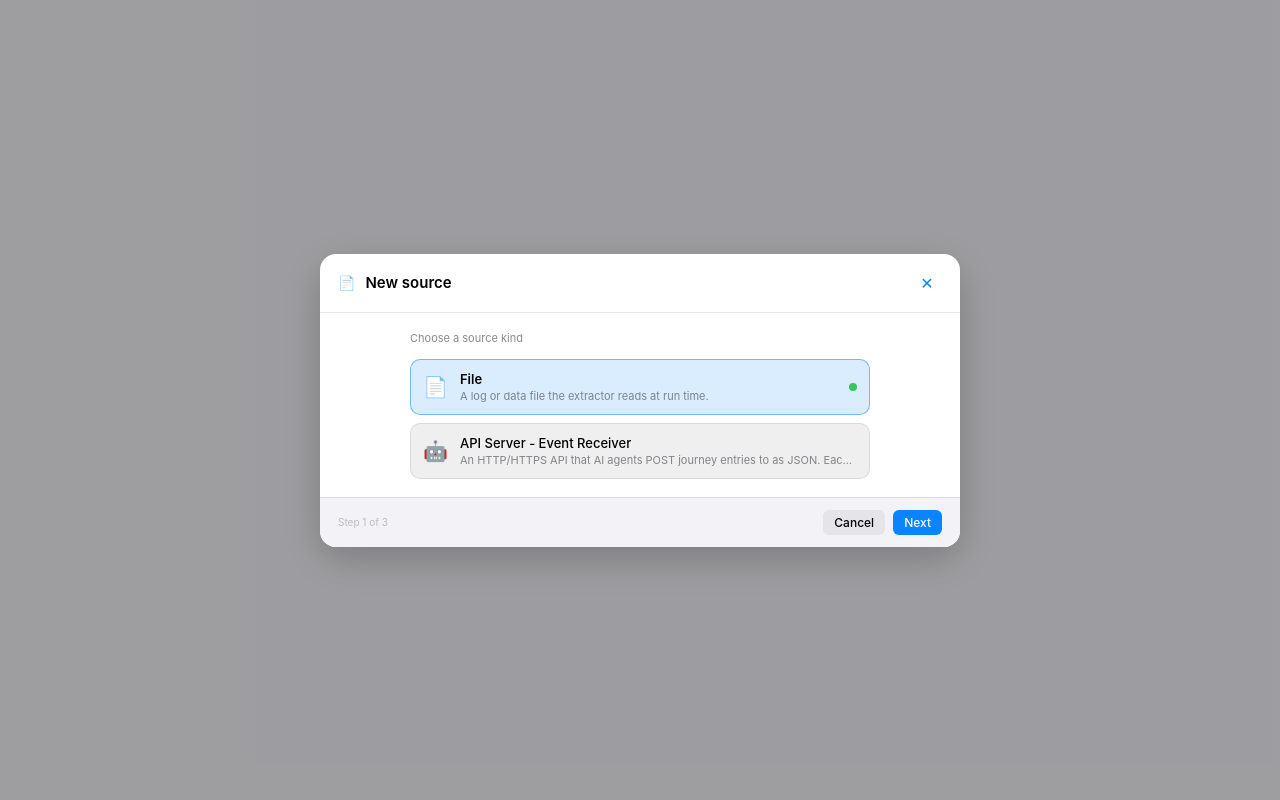
Scenario: SourceWizard › creates a sink and shows its one-time token
The width and height of the screenshot is (1280, 800).
Click the text "API Server - Event Receiver" at coordinates (546, 442), box [460,434,631,450]
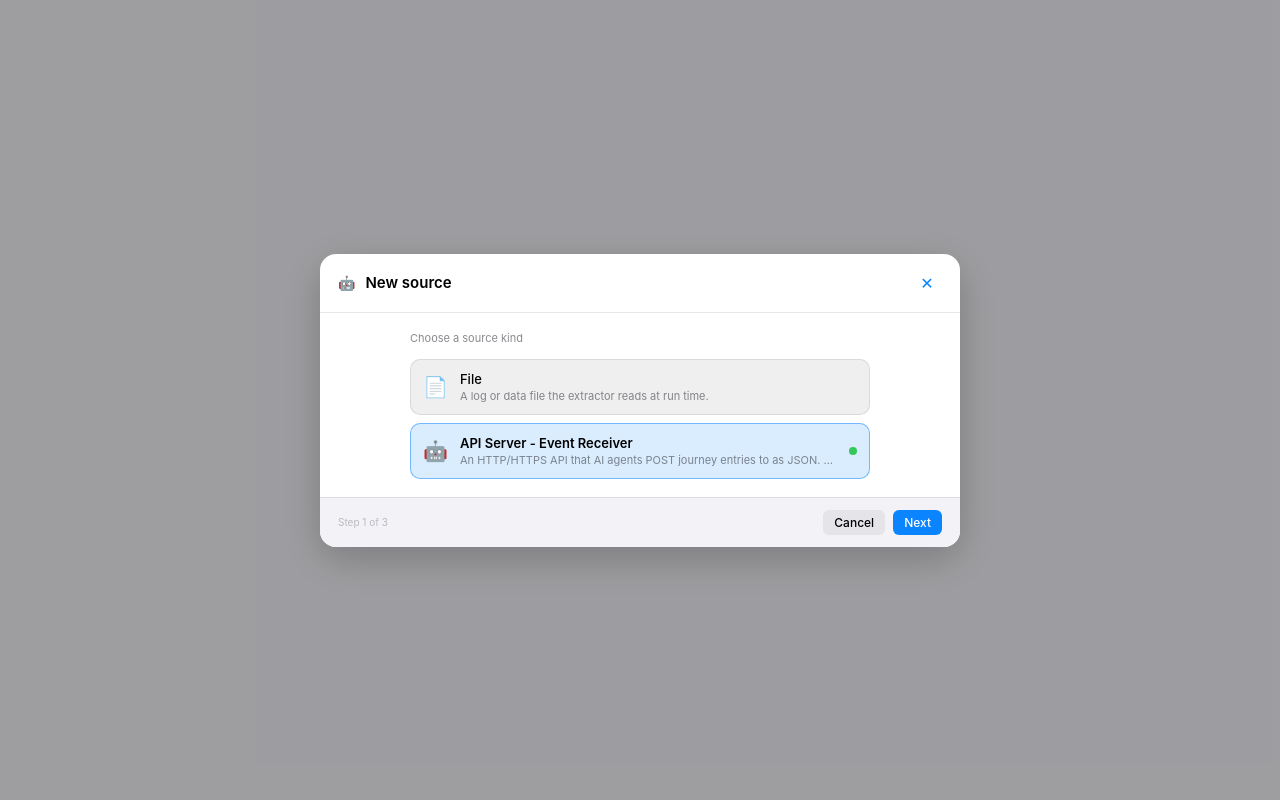
Click the button "Next" at coordinates (918, 522), box [893,510,942,534]
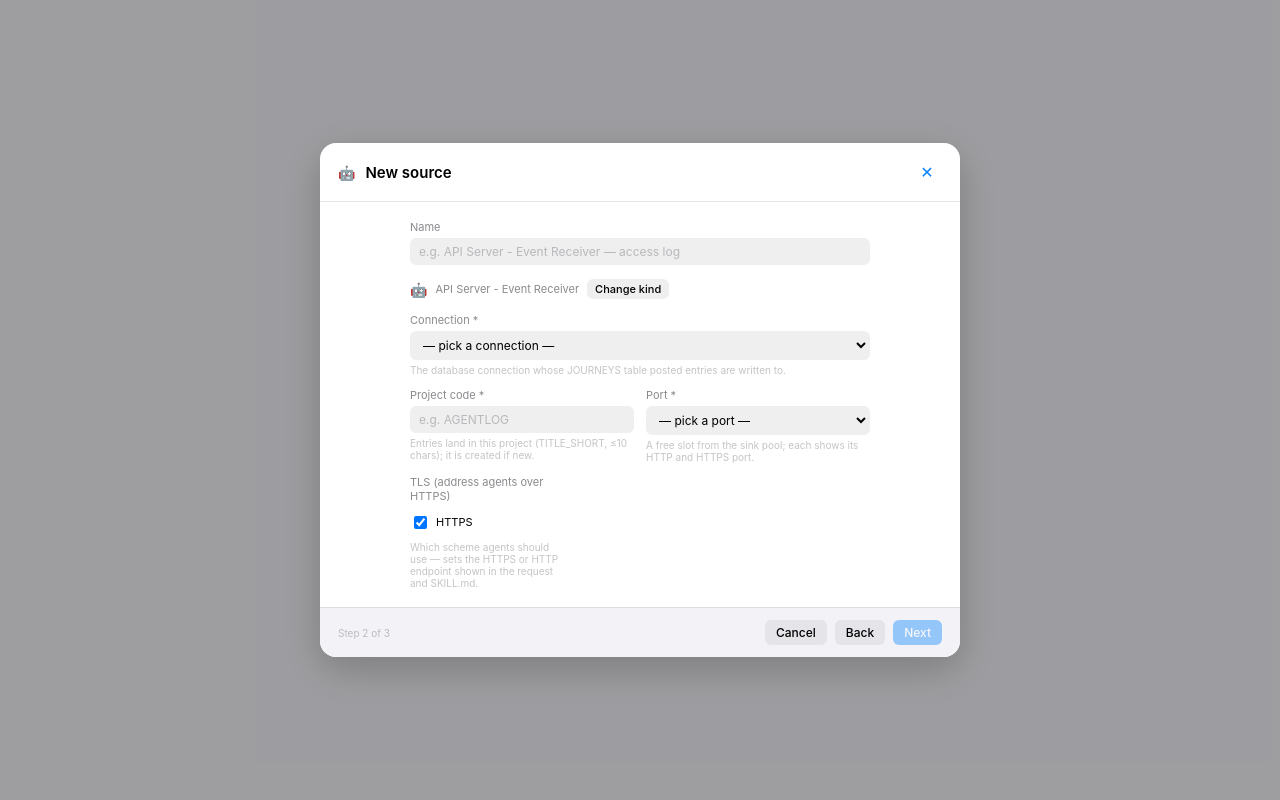
Type "Agent sink" into the field with placeholder "e.g. API Server - Event Receiver — access log" at coordinates (640, 252), box [410,238,870,265]
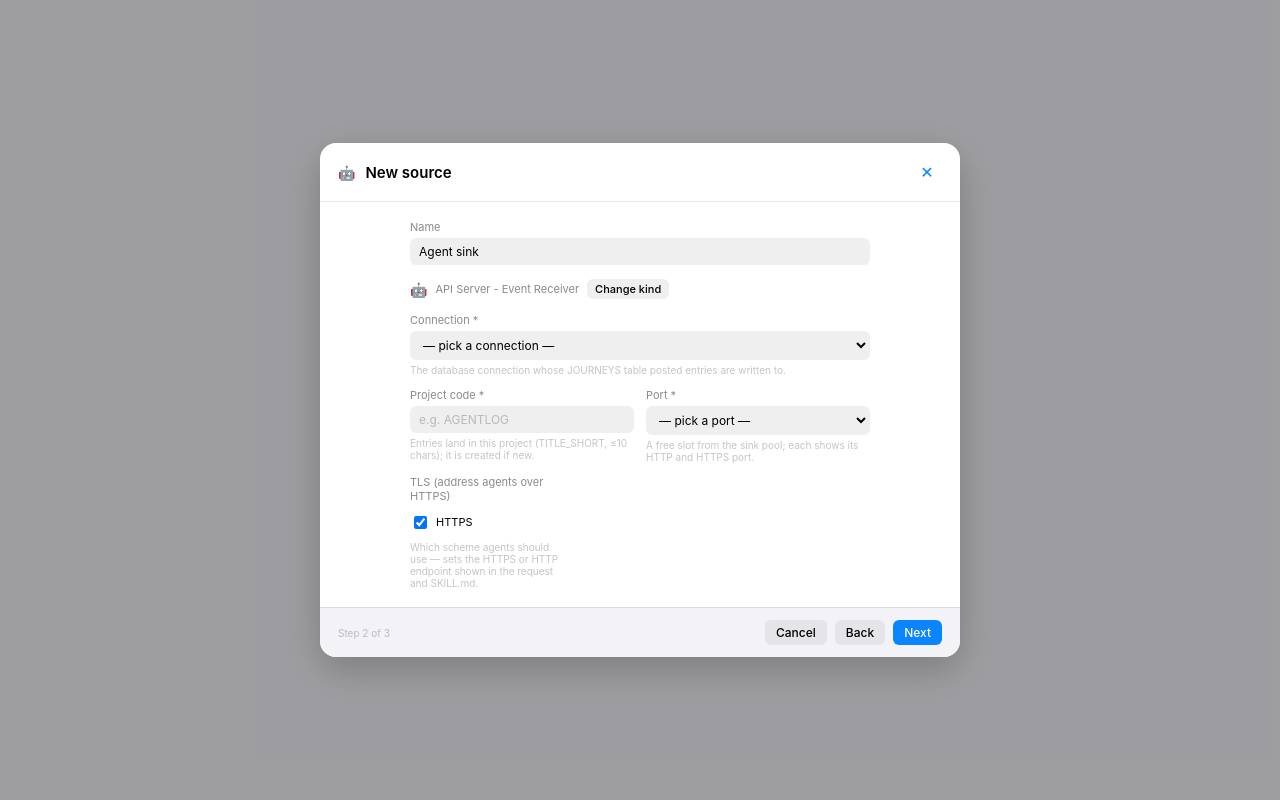
Select "Prod DB" in the dropdown showing "— pick a connection —" at coordinates (640, 346), box [410,331,870,360]
Type "AGENTLOG" into the field with placeholder "e.g. AGENTLOG" at coordinates (522, 420), box [410,406,634,433]
Select "HTTP 8120 · HTTPS 8483" in the dropdown showing "— pick a port —" at coordinates (758, 420), box [646,406,870,435]
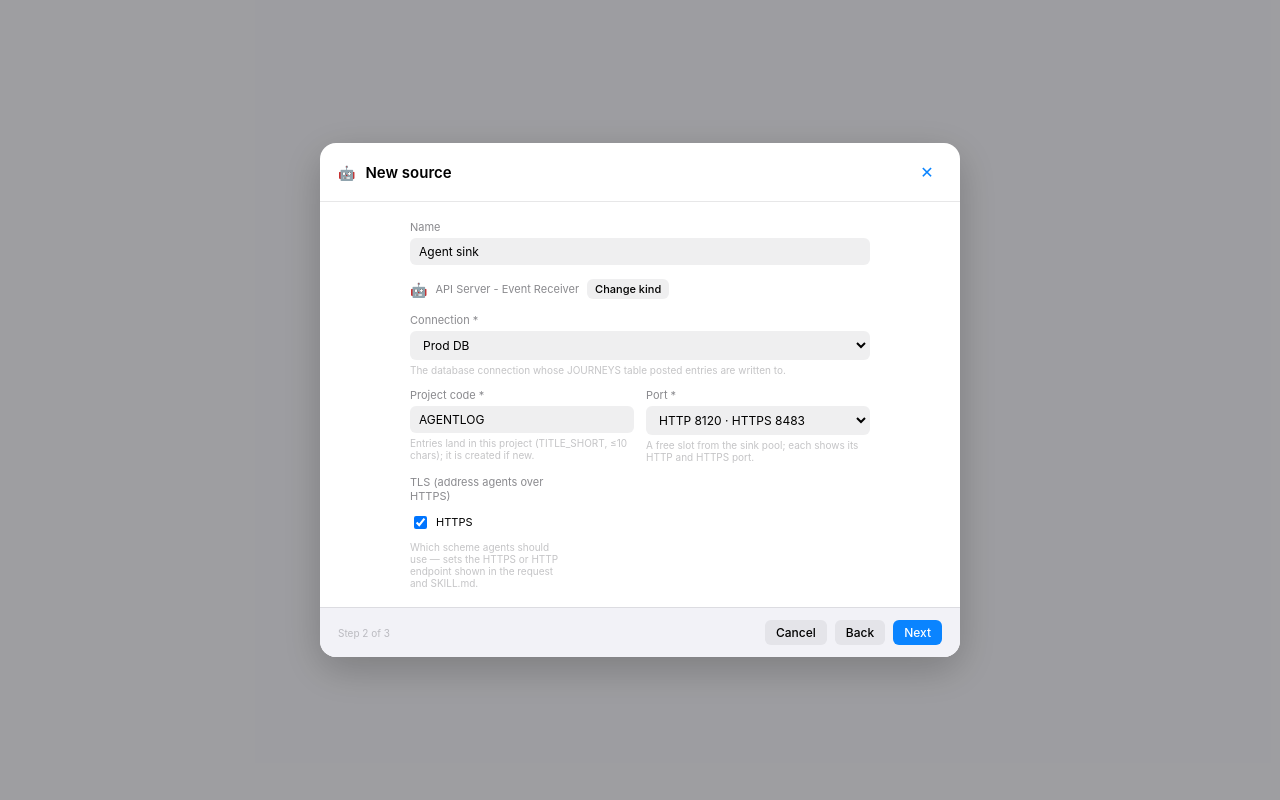
Click the button "Next" at coordinates (918, 632), box [893,620,942,645]
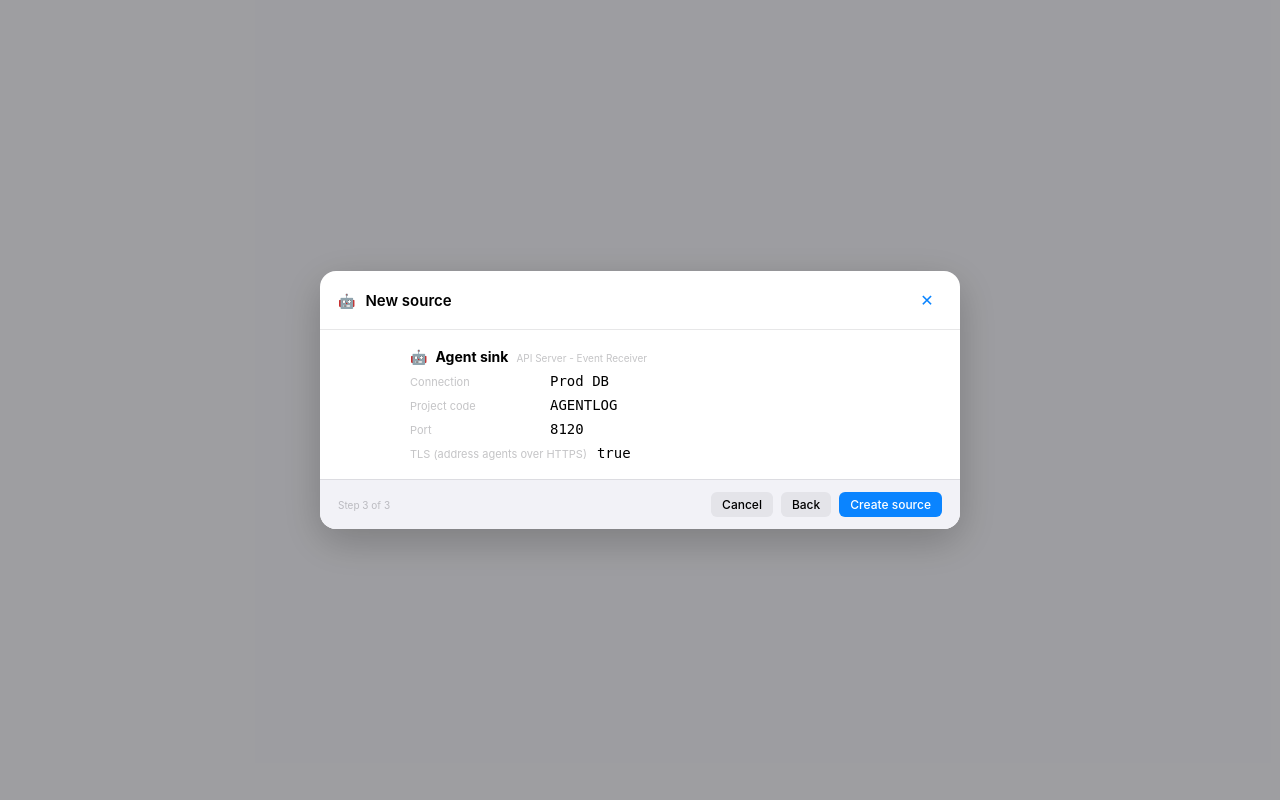
Click the button "Create source" at coordinates (891, 504), box [839,492,942,517]
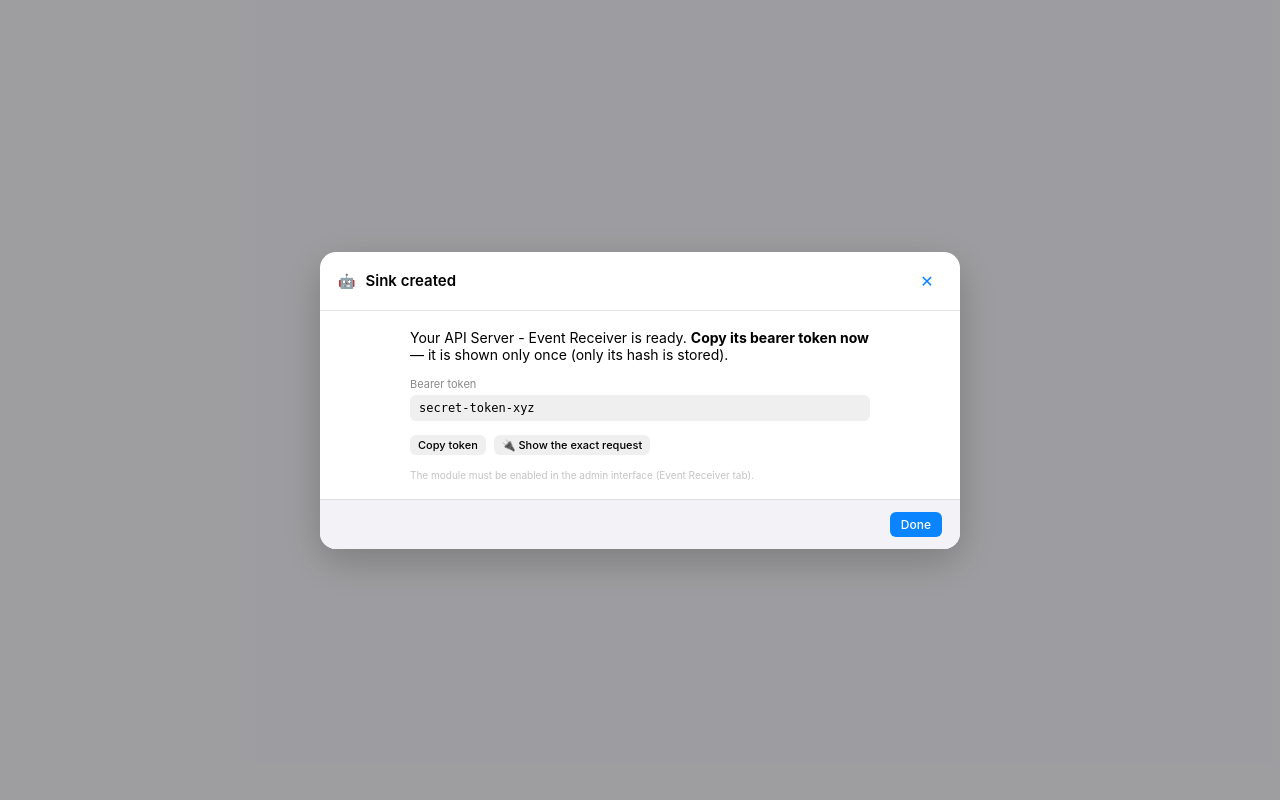
Now the field showing "secret-token-xyz" is shown, box [410,394,870,420]
